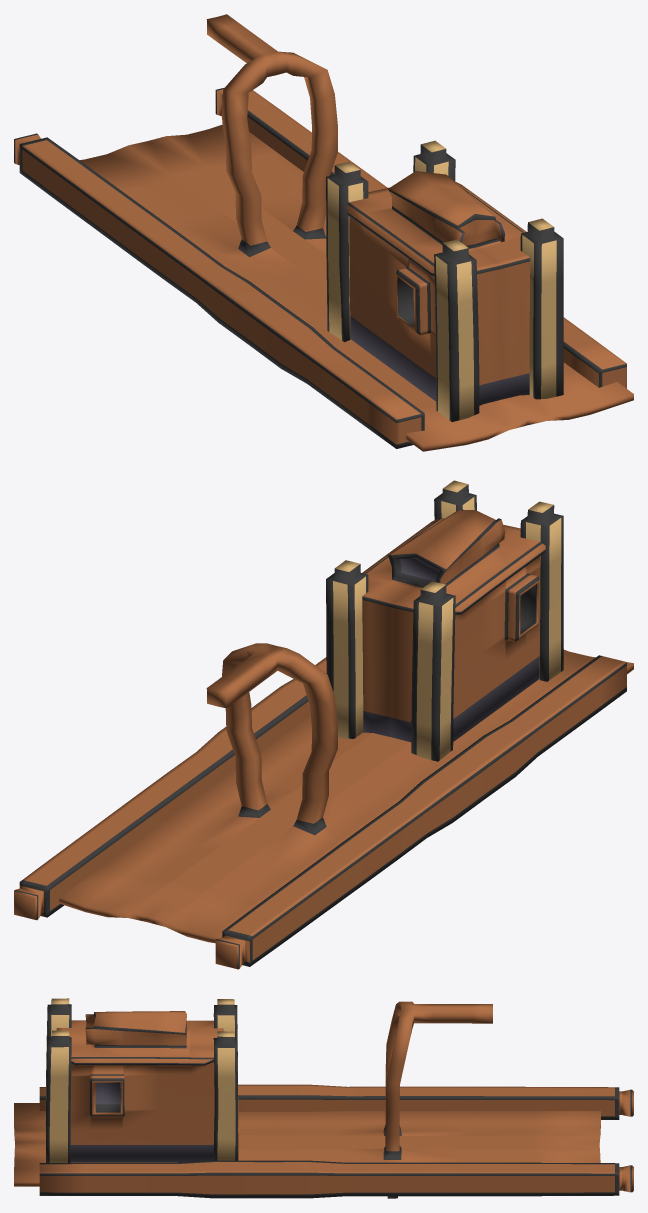
The model's file is startingdock.fbx.
The picture shows the model from 3 angles, top to bottom: view 1: azimuth 30°, elevation 25°; view 2: azimuth 150°, elevation 25°; view 3: azimuth 270°, elevation 25°; orthographic projection. The views are drawn at different scales.
Visible parts, largest first — view 1: Cube; view 2: Cube; view 3: Cube.
Part boxes in pixels (<box>): Cube: <box>14,14,633,451</box>; Cube: <box>14,480,633,969</box>; Cube: <box>14,998,633,1198</box>.
Bounding box in the file's own units: 1750 × 1753 × 5210.
